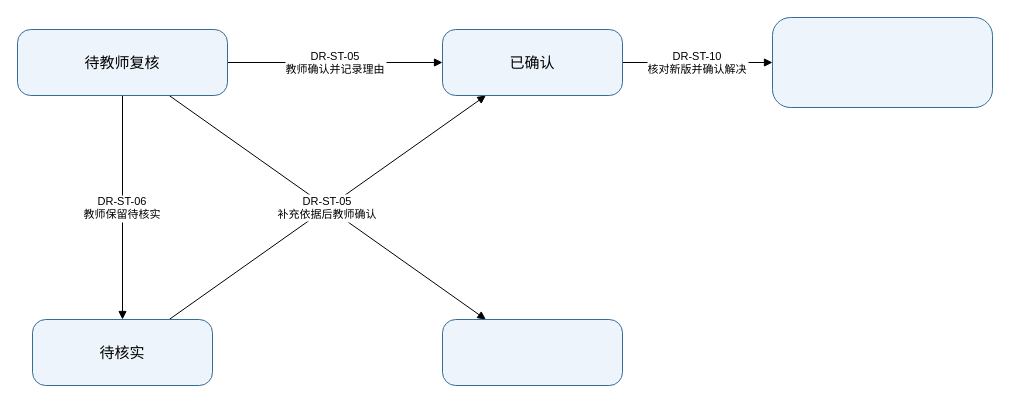
Some shapes in this 1010 by 403 pixel diagram are drawn without their labels. The shapes that lost their labels are listed below. From the top down, each one's box as (x1, y1, x2, y2) in pixels, then its label:
(772, 16, 992, 108): 解决已确认 新增跟踪记录
(442, 318, 622, 386): 已驳回
